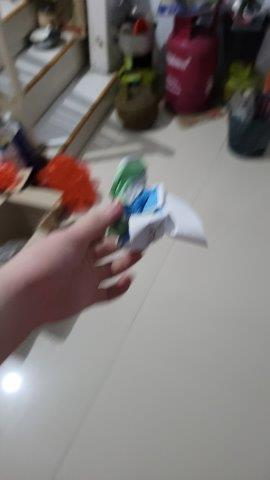kertas: (97, 158, 210, 259)
